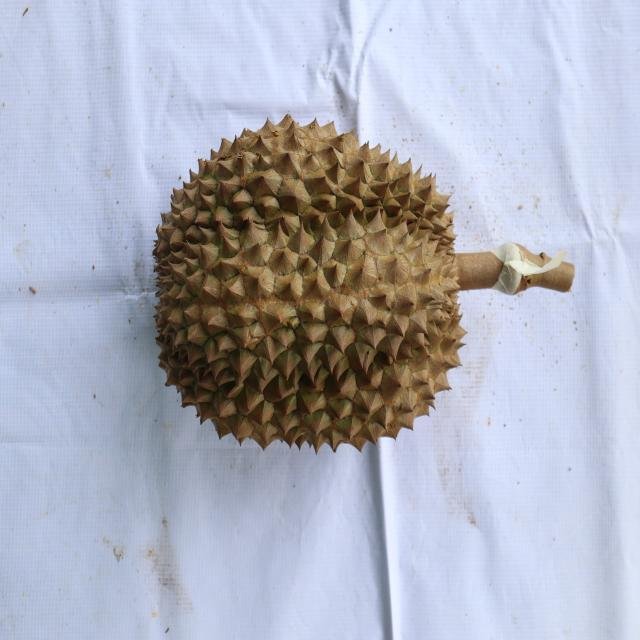mature: (153, 113, 467, 453)
